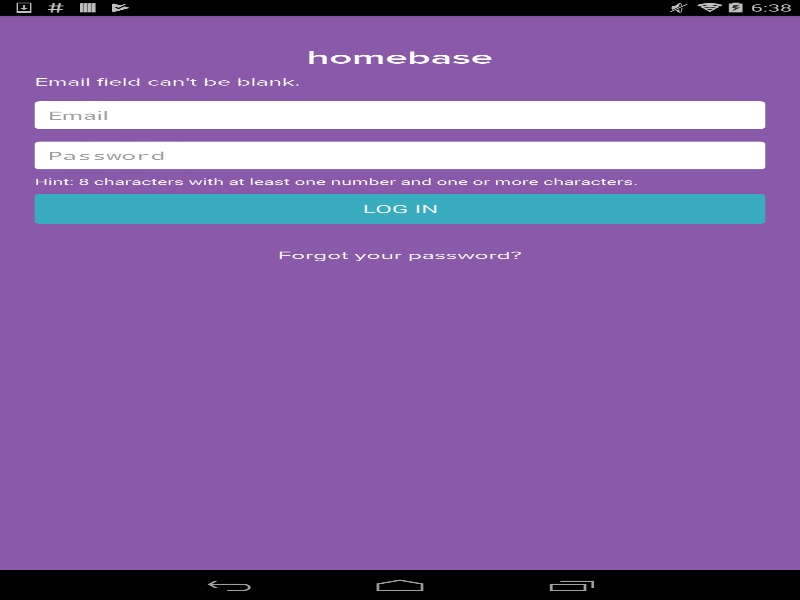Button: (34, 193, 765, 223)
Input: (34, 101, 765, 129), (34, 141, 765, 169)
